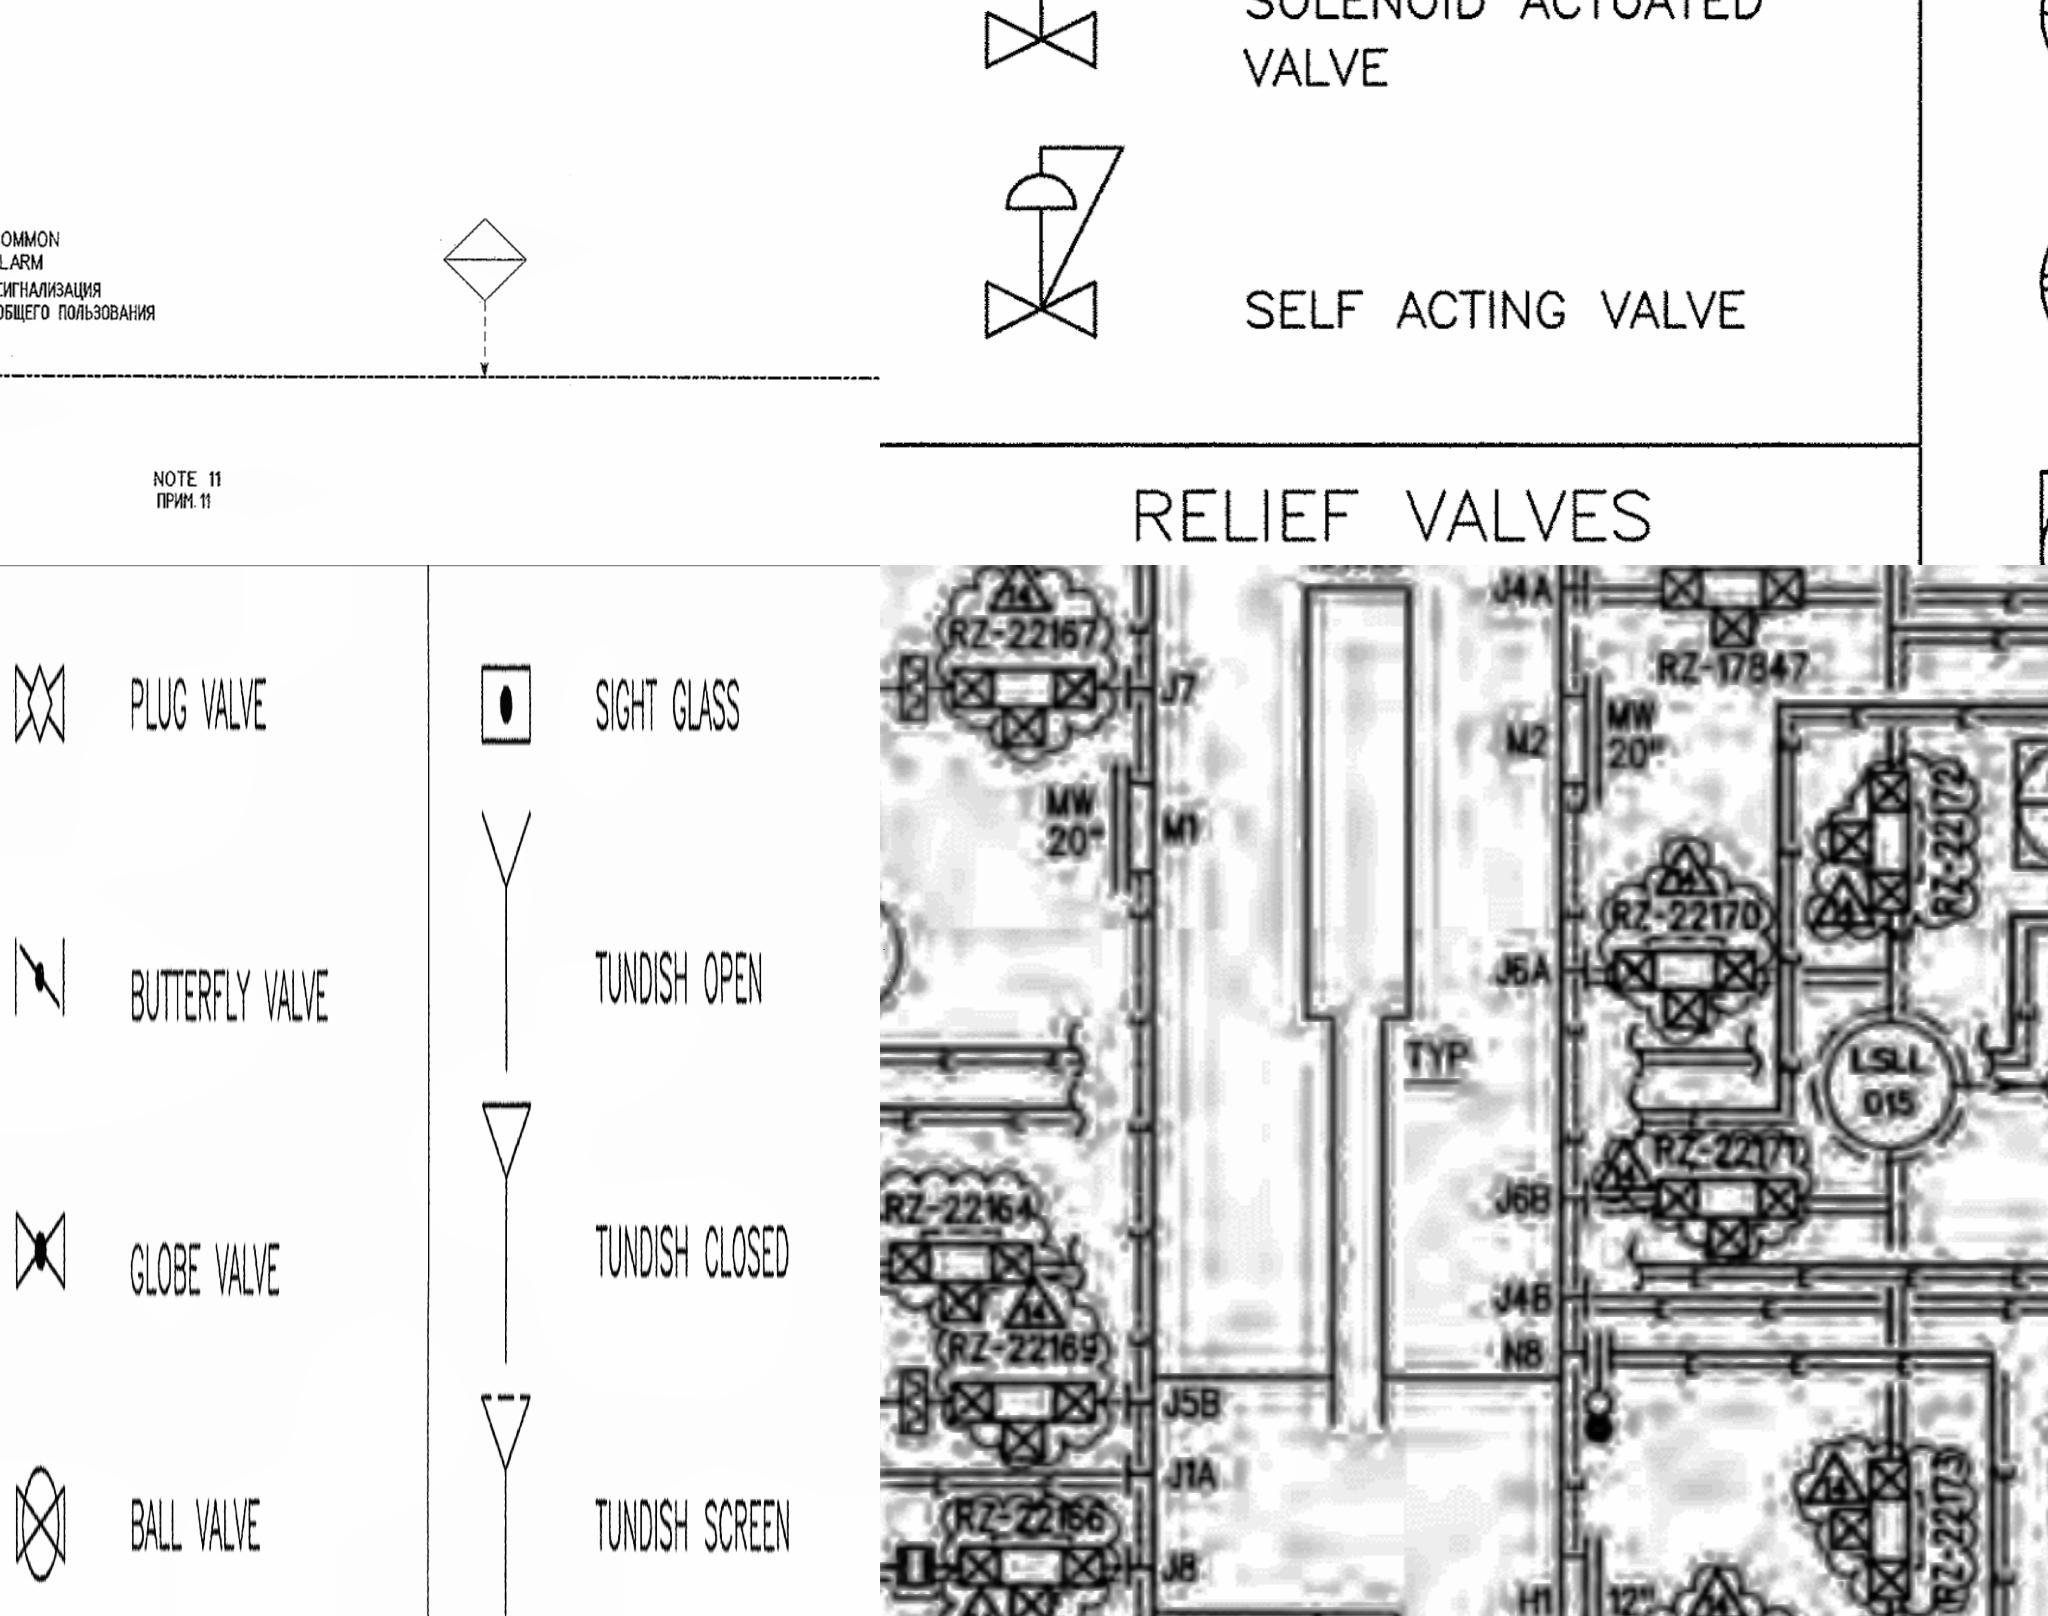2 WAY VALVE: (921, 647, 1110, 763), (879, 1214, 1051, 1337), (1639, 1170, 1830, 1280), (1805, 1436, 1922, 1616), (1820, 746, 1932, 929), (1604, 929, 1789, 1036), (943, 1511, 1122, 1616), (944, 1375, 1109, 1473), (1652, 565, 1814, 648)
BALL VALVE: (15, 894, 66, 1022)
DCS ACCESSIBLE: (2001, 722, 2048, 883)
DIAPHRAGM SEAL: (1641, 833, 1726, 906), (1598, 1137, 1672, 1210), (1797, 1451, 1880, 1516), (883, 1362, 939, 1453), (1682, 1541, 1750, 1616), (1815, 866, 1880, 939), (948, 1578, 1019, 1616)
END FLANGED: (976, 565, 1064, 627)
FIELD INSTRUMENT: (1805, 1004, 1982, 1167), (879, 878, 913, 1024)
GLOBE VALVE: (13, 637, 70, 728)
HARDWIRED INTERLOCK PRIMARY.: (431, 209, 545, 304)
REVISION TRIANGLE: (1002, 1275, 1089, 1345)
SELF ACTING VALVE: (977, 136, 1127, 344)
SOLENOID ACTUATED VALVE: (981, 0, 1099, 80)
SPECTACLE BLIND OPEN: (1574, 1317, 1627, 1443)
TUNDISH CLOSED: (480, 565, 537, 805)
TUNDISH SCREEN: (480, 816, 534, 1051)
